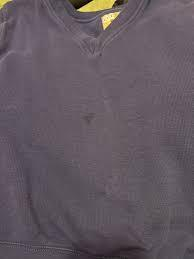mustard: (79, 109, 97, 126)
